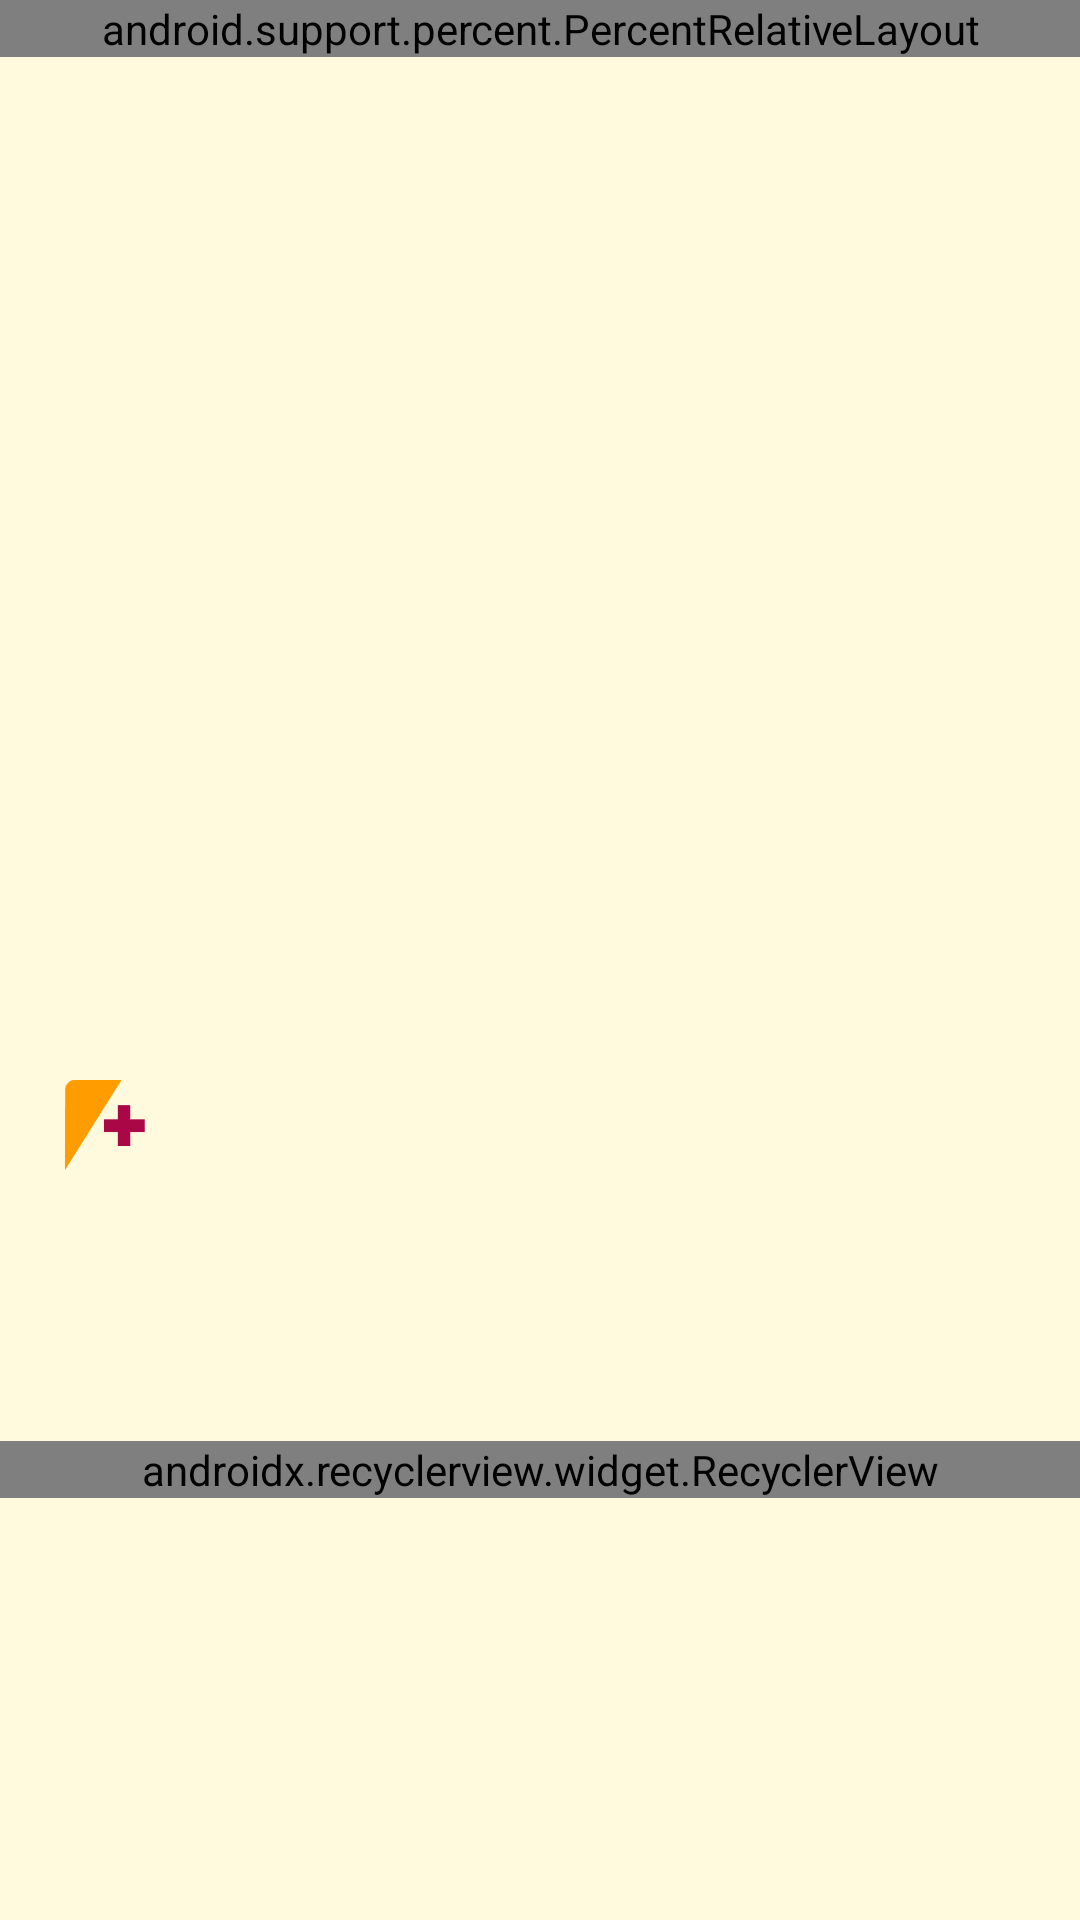

Named icons in this screenshot (1080w x 1920h) and their centers, (x,y):
add style: (105,1125)
